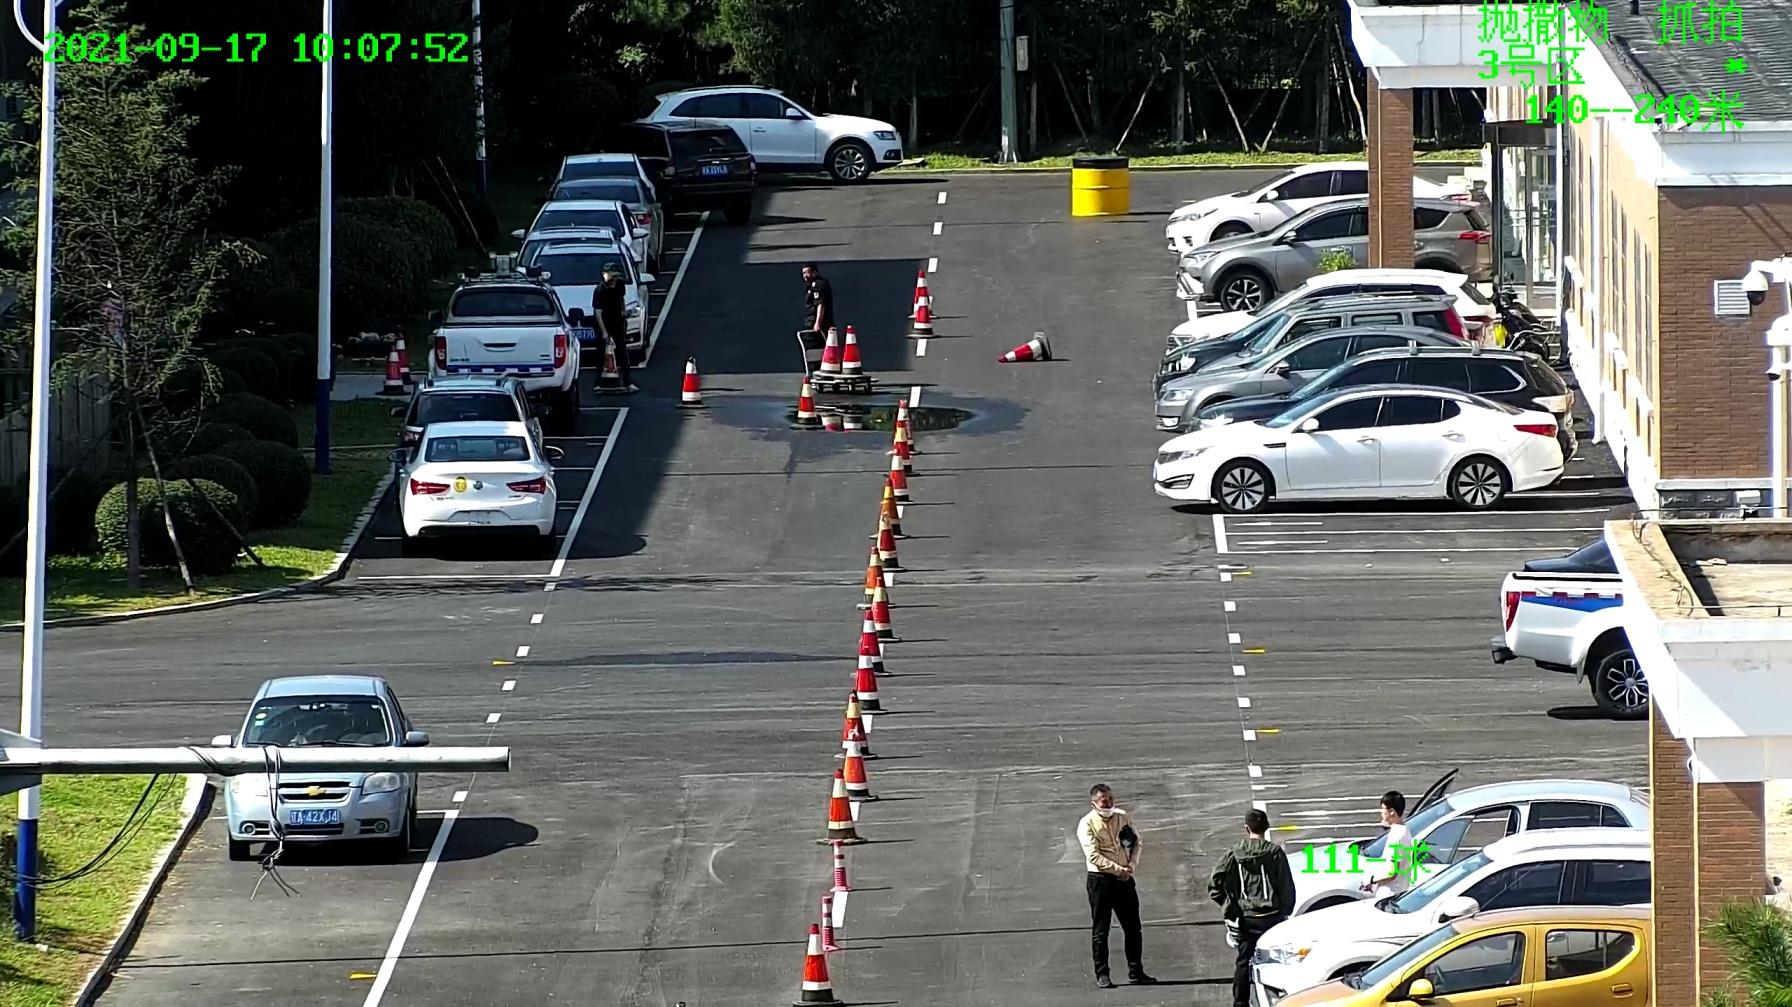cone_barrel: (793, 922, 837, 1005), (818, 767, 860, 843), (901, 263, 937, 337), (836, 691, 874, 758), (853, 646, 886, 714), (854, 611, 887, 676), (839, 734, 871, 799), (858, 547, 891, 608), (871, 483, 906, 538), (868, 577, 897, 641), (789, 374, 822, 427), (889, 421, 918, 476), (674, 351, 705, 404), (875, 513, 901, 572), (839, 321, 865, 379), (882, 447, 910, 501), (998, 334, 1052, 361), (812, 325, 839, 377), (894, 398, 917, 455), (378, 346, 404, 395), (596, 340, 622, 388), (817, 895, 838, 952), (391, 334, 414, 384), (828, 840, 850, 890)
